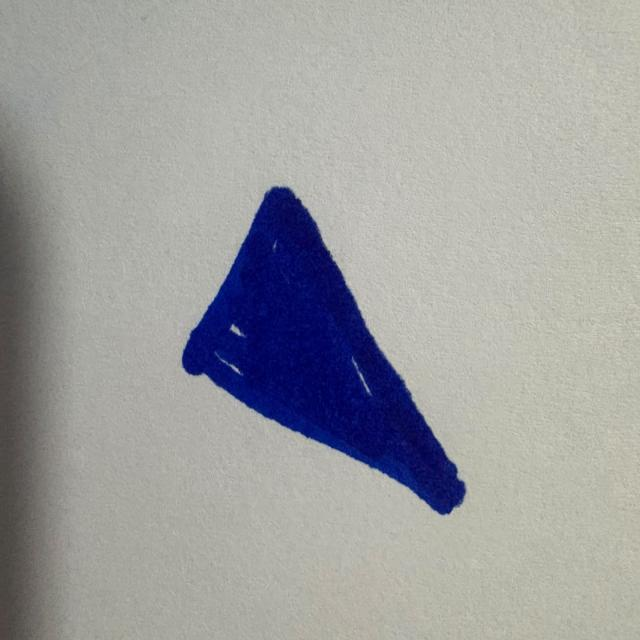Triangle: (182, 187, 464, 513)
